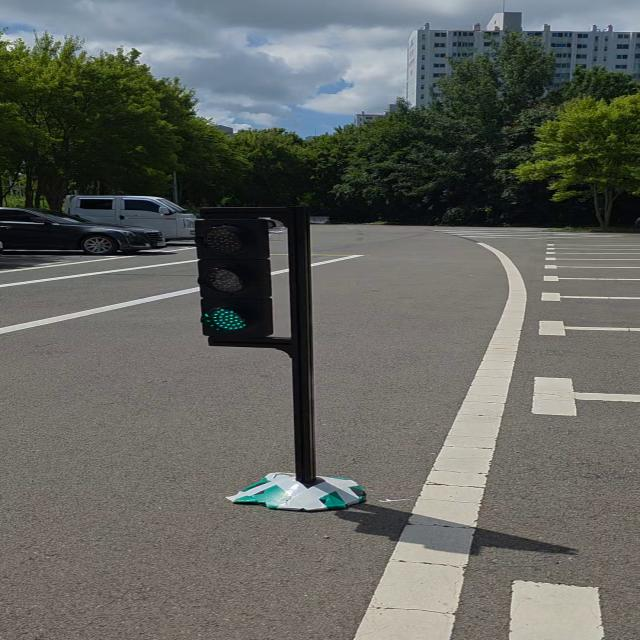green: (196, 214, 270, 344)
